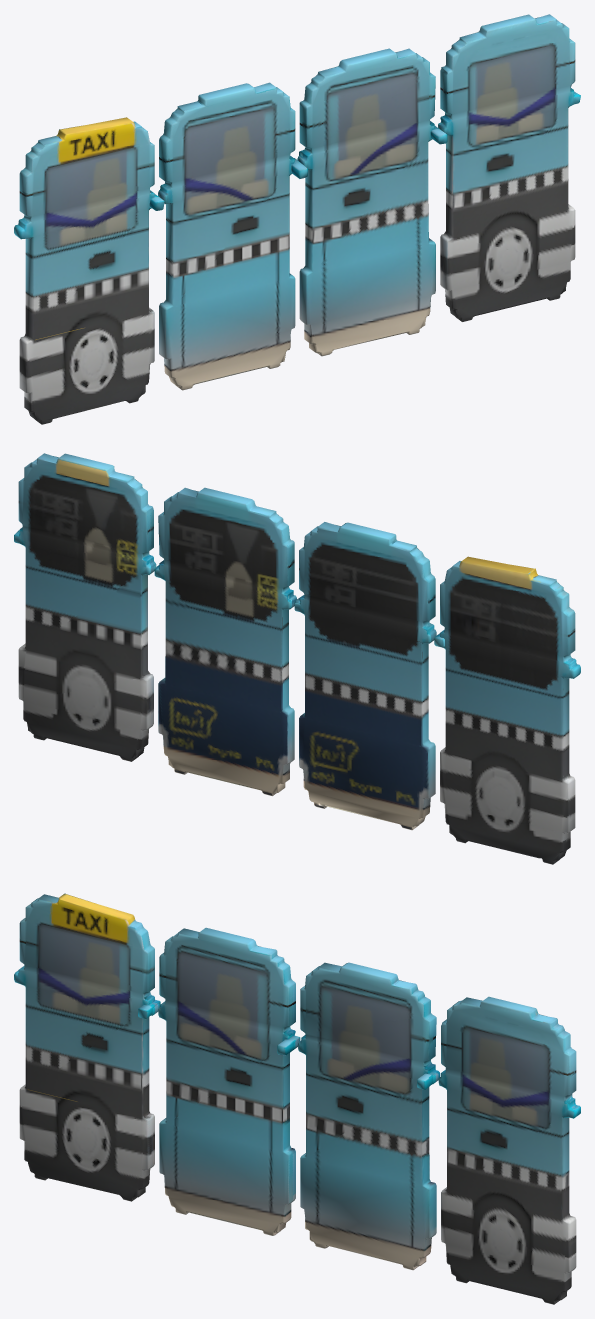
Rendered from taxi.glb.
3 renders of one model, top to bottom at view 1: azimuth 30°, elevation 25°; view 2: azimuth 150°, elevation 25°; view 3: azimuth 330°, elevation 25°, orthographic.
Bounding box in the file's own units: 2 × 0.9733 × 0.1027.
Materials: 1 (1 with a texture image).
